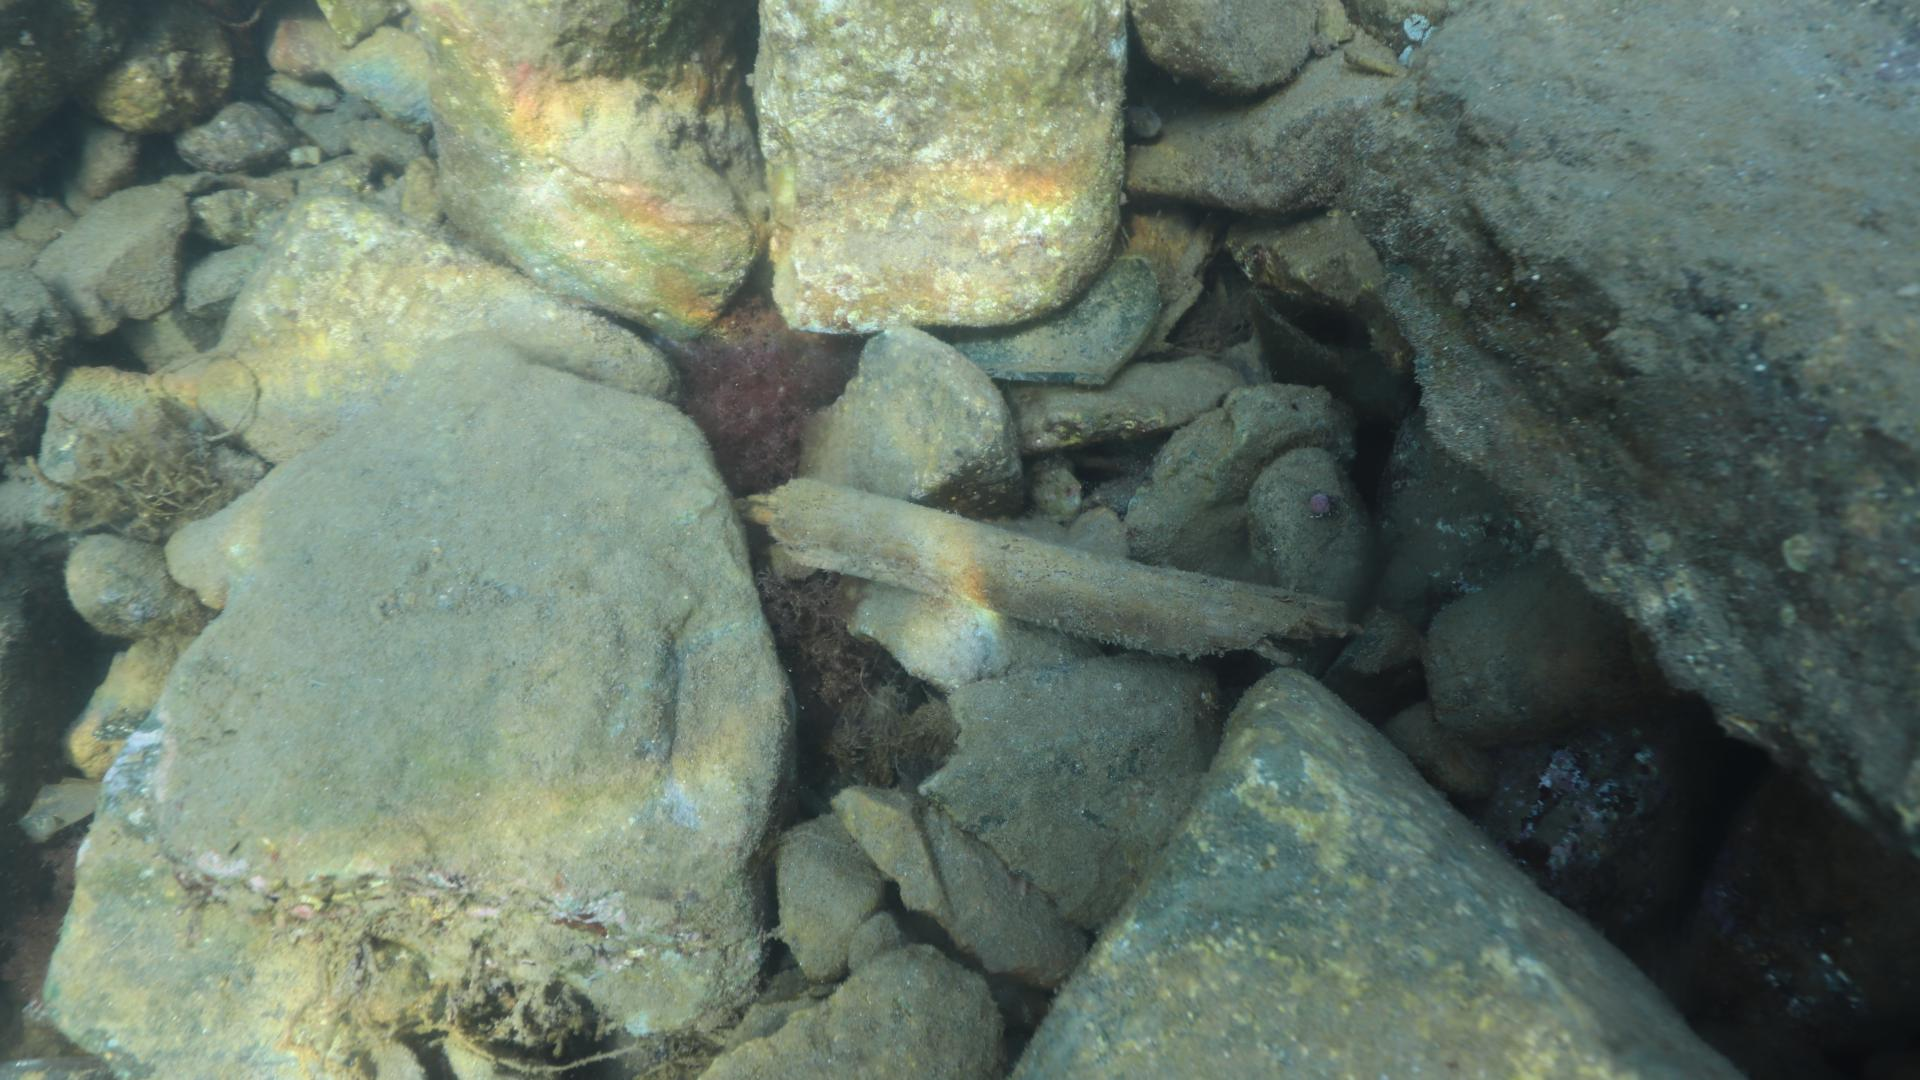wood: (744, 475, 1365, 665)
